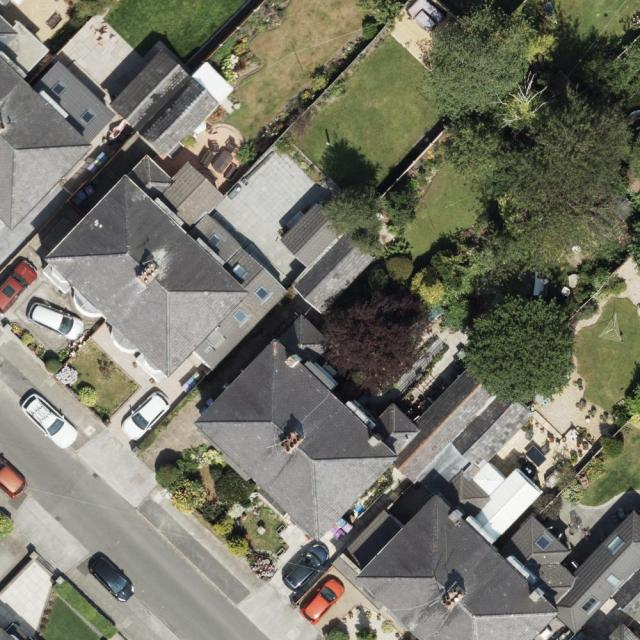roof: (195, 314, 640, 640), (44, 154, 288, 377), (0, 14, 118, 230), (108, 49, 219, 159), (280, 204, 378, 317)
skylight: (581, 593, 603, 617), (604, 535, 625, 555), (228, 262, 246, 285), (50, 79, 69, 99), (78, 107, 97, 125), (536, 533, 554, 552), (604, 571, 622, 589), (254, 285, 271, 302), (207, 234, 226, 249), (234, 307, 249, 325)
